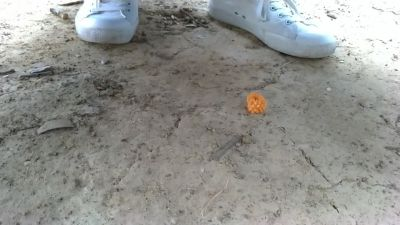eggs: (246, 89, 269, 116)
